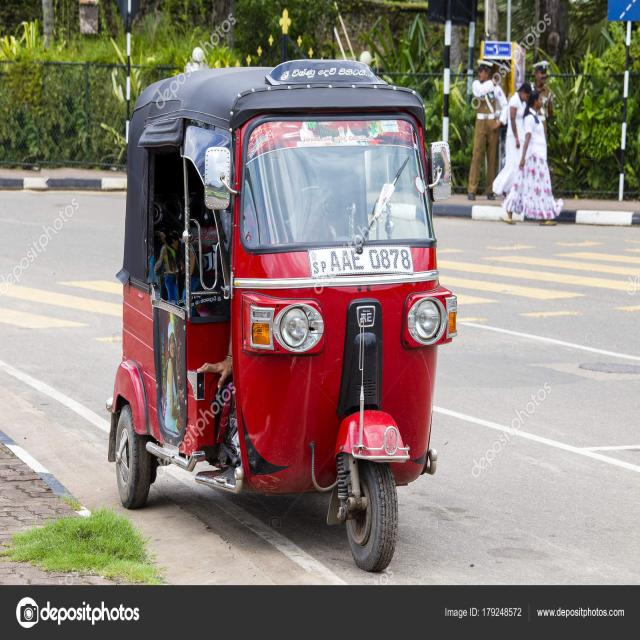autorickshaw: (108, 60, 458, 571)
